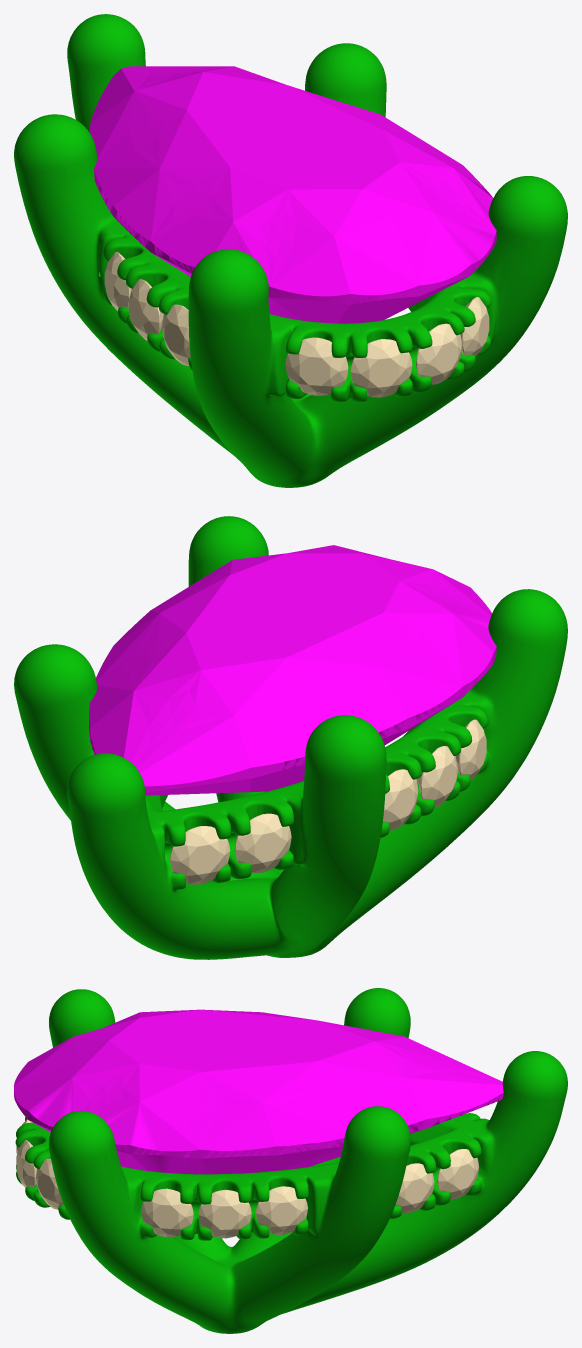
3 views of the same model, one above another, from view 1: azimuth 30°, elevation 25°; view 2: azimuth 150°, elevation 25°; view 3: azimuth 270°, elevation 25° (orthographic). The views are drawn at different scales.
Parts seen in each view (by area): view 1: Metal01, Diamond_Pear, Diamond_Round.011, Diamond_Round.012, Diamond_Round.013, Diamond_Round.005, Diamond_Round.004, Diamond_Round, Diamond_Round.006; view 2: Metal01, Diamond_Pear, Diamond_Round.009, Diamond_Round.010, Diamond_Round.006, Diamond_Round.005, Diamond_Round.004; view 3: Metal01, Diamond_Pear, Diamond_Round.002, Diamond_Round.001, Diamond_Round.003, Diamond_Round.008, Diamond_Round.007, Diamond_Round, Diamond_Round.013.
Boxes of the visible parts, box(x1,y1,x2,y2) form: Metal01: box(14, 14, 567, 487); Diamond_Pear: box(89, 66, 496, 323); Diamond_Round.011: box(285, 337, 348, 395); Diamond_Round.012: box(350, 339, 412, 397); Diamond_Round.013: box(416, 323, 462, 384); Diamond_Round.005: box(128, 279, 163, 340); Diamond_Round.004: box(162, 304, 190, 365); Diamond_Round: box(460, 297, 489, 355); Diamond_Round.006: box(104, 252, 131, 310); Metal01: box(14, 516, 567, 959); Diamond_Pear: box(89, 545, 496, 795); Diamond_Round.009: box(170, 826, 230, 884); Diamond_Round.010: box(234, 813, 291, 872); Diamond_Round.006: box(383, 769, 418, 830); Diamond_Round.005: box(417, 746, 457, 807); Diamond_Round.004: box(455, 719, 486, 780); Metal01: box(15, 988, 567, 1333); Diamond_Pear: box(14, 1009, 503, 1174); Diamond_Round.002: box(198, 1189, 251, 1238); Diamond_Round.001: box(141, 1188, 193, 1237); Diamond_Round.003: box(256, 1186, 307, 1234); Diamond_Round.008: box(437, 1149, 478, 1199); Diamond_Round.007: box(395, 1163, 434, 1212); Diamond_Round: box(36, 1158, 63, 1209); Diamond_Round.013: box(16, 1140, 36, 1187).
Bounding box in the file's own units: 7.37 × 6.47 × 11.51.
